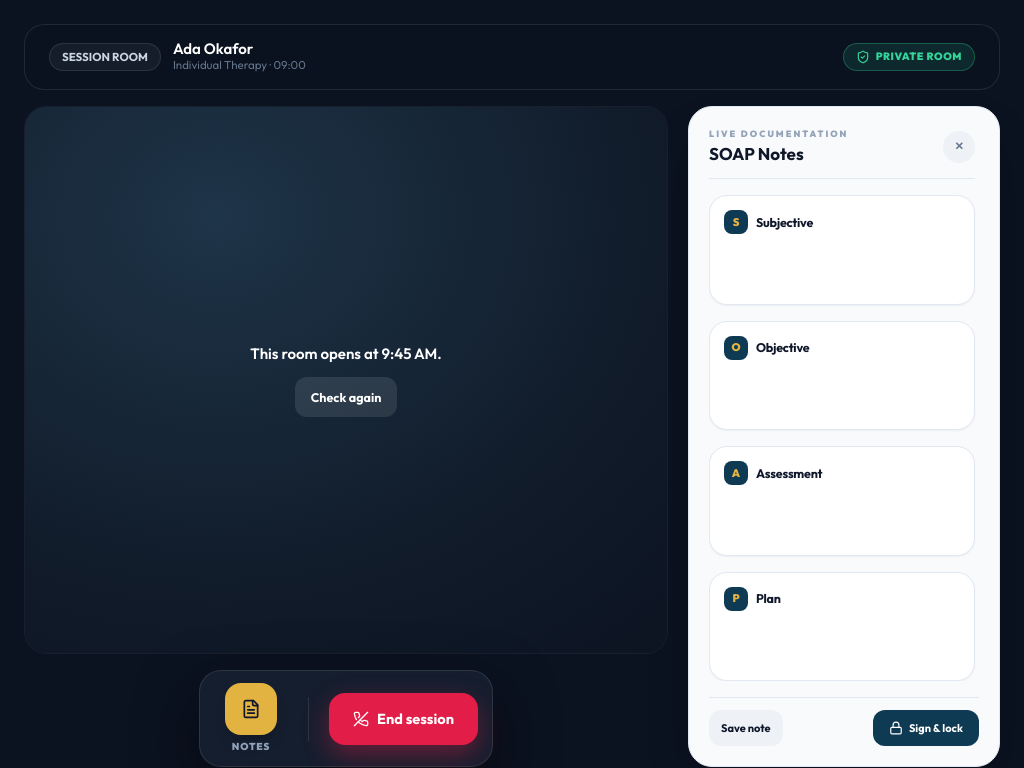
the therapist's session room › keeps the notes drawer on the NOTES button
The width and height of the screenshot is (1024, 768).
Check: the heading "SOAP Notes" is shown, box [709, 142, 804, 164]
What coordinates should you click on to do the following:
click the button named "Notes"
I would click on:
 (251, 709)
Its box is [225, 683, 277, 735].
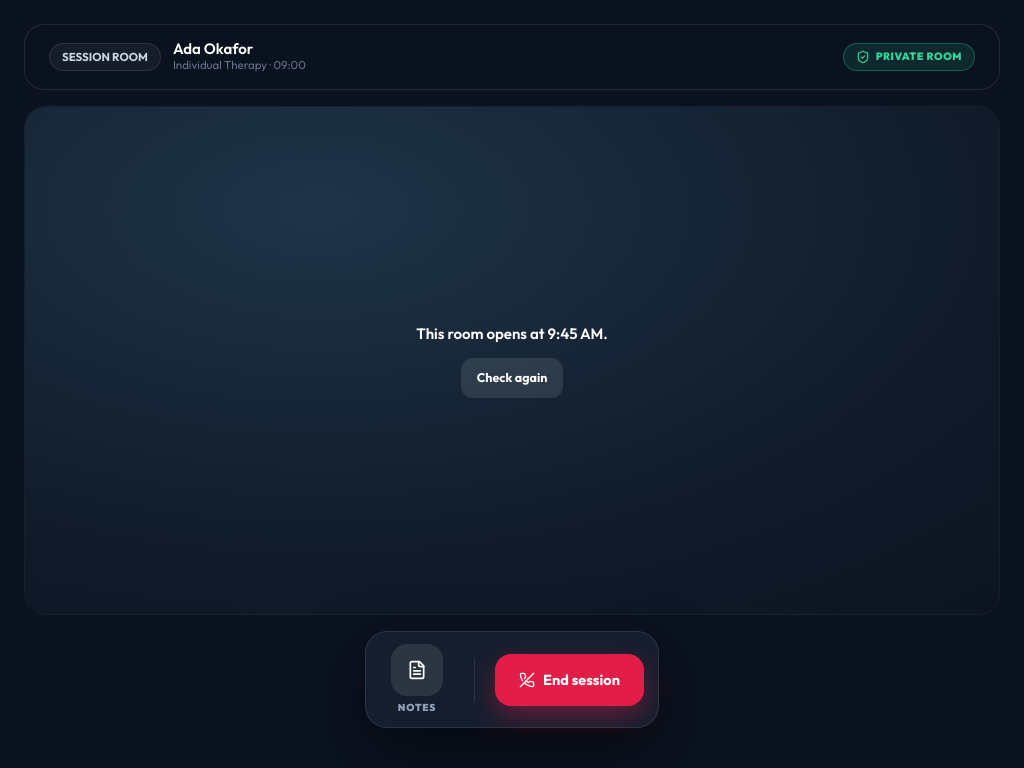
Check: the heading "SOAP Notes" is gone
